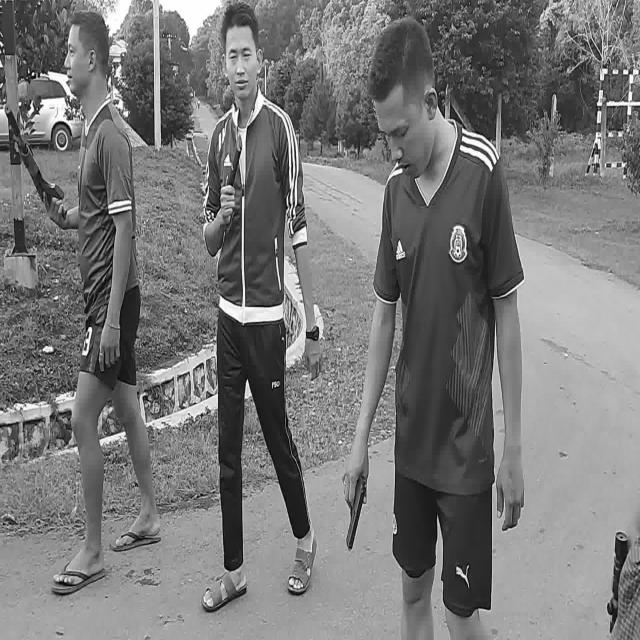gun: (5, 102, 67, 219), (346, 475, 366, 549)
